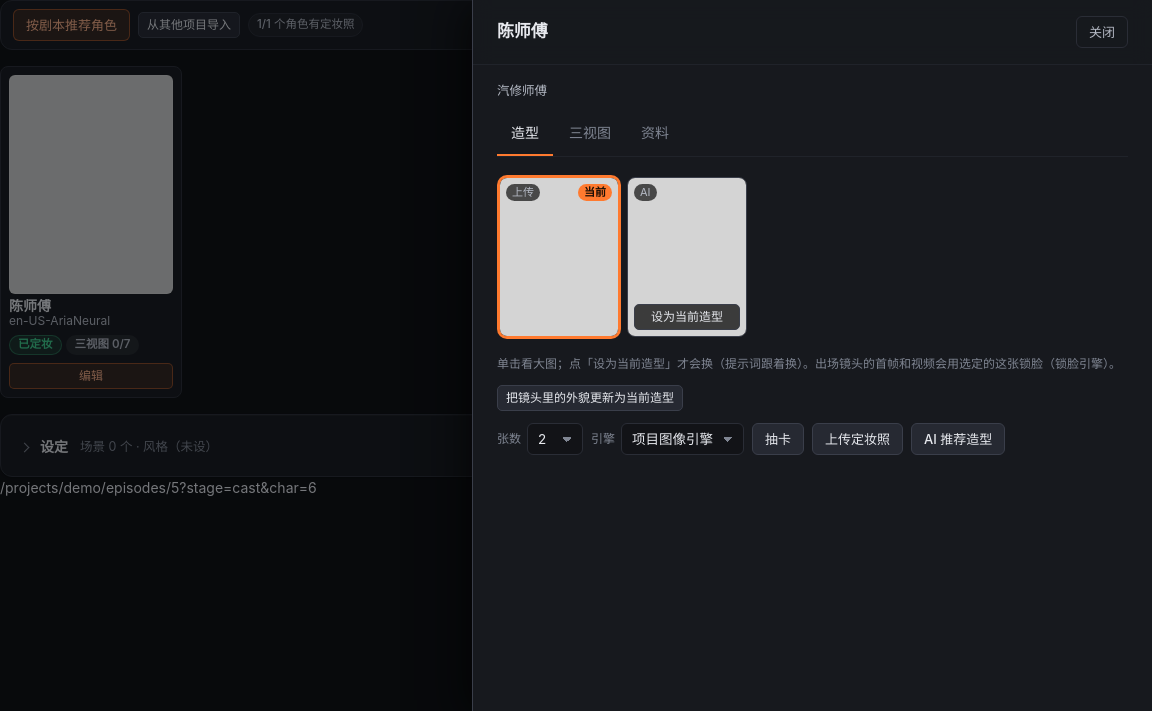
Test: 角色抽屉 › 不在常用列表里的音色：直接显示成手填
The image size is (1152, 711).
Click the tab "资料" at point(655, 134), box top-left (627, 112), bottom-right (683, 156)
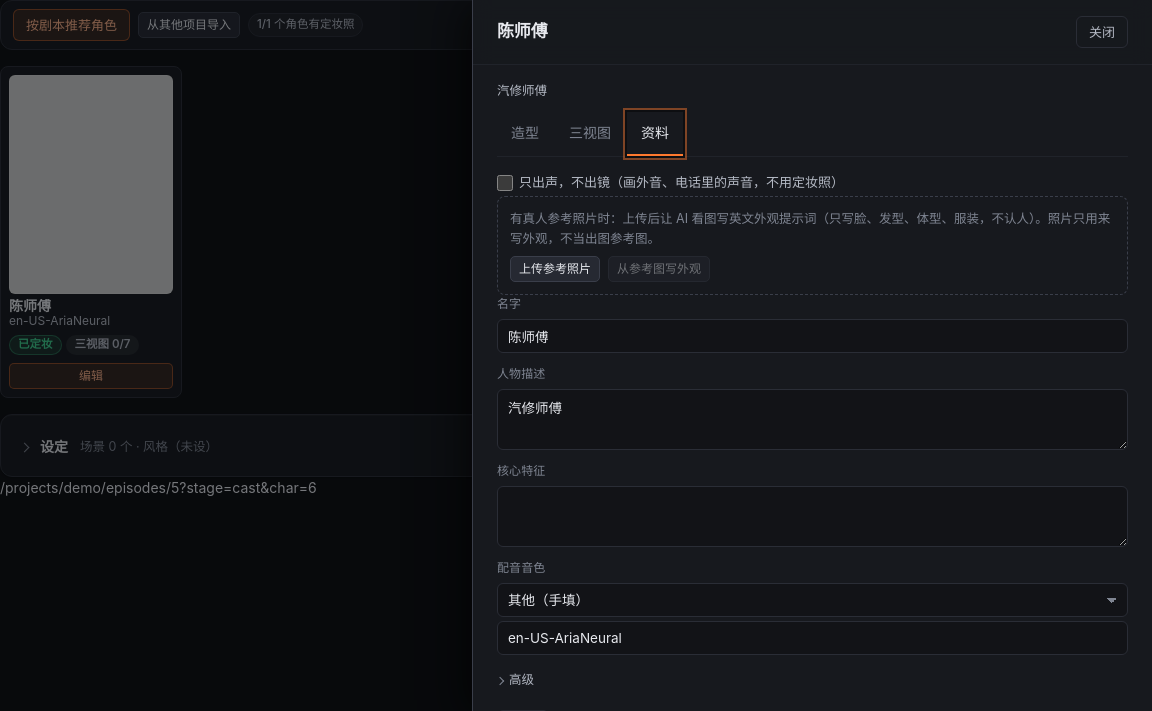
Result: the field named "配音音色（手填）" holds "en-US-AriaNeural" at top-left (497, 621), bottom-right (1128, 655)
